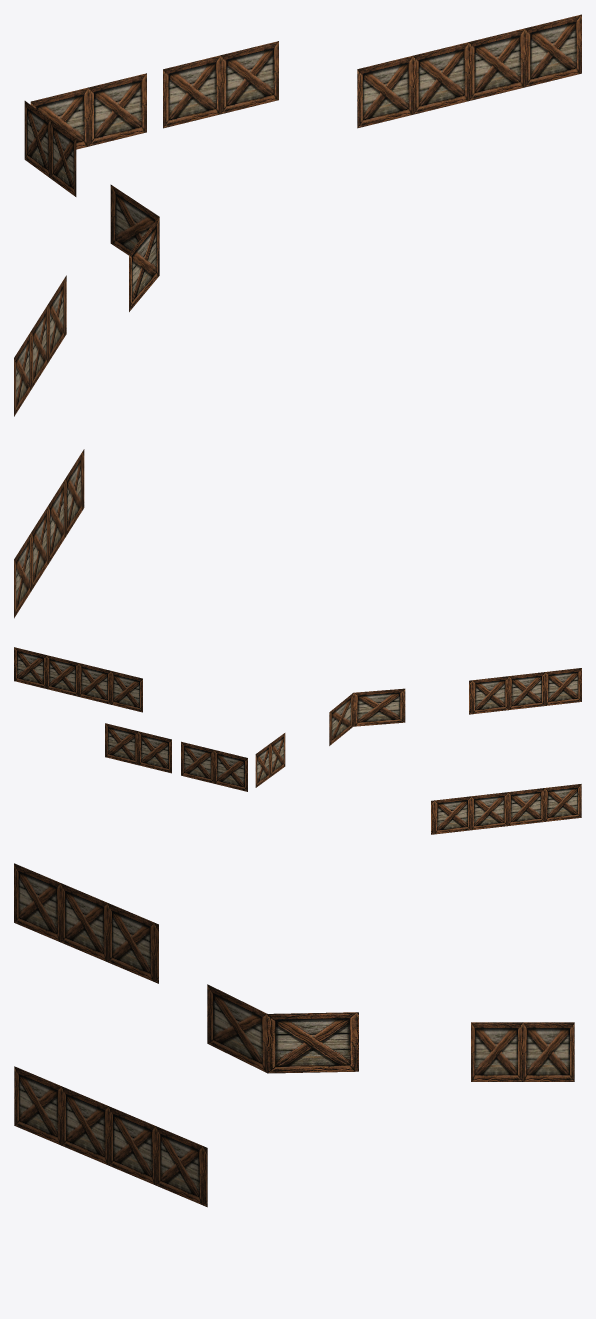
File: LAKETOWN_EXTERIOR_PS_LT_PANELS2674.fbx
3 renders of one model, top to bottom at view 1: azimuth 30°, elevation 25°; view 2: azimuth 150°, elevation 25°; view 3: azimuth 270°, elevation 25°, orthographic. The views are drawn at different scales.
Visible parts, largest first — view 1: LAKETOWN_EXTERIOR_PS_LT_PANELS2674; view 2: LAKETOWN_EXTERIOR_PS_LT_PANELS2674; view 3: LAKETOWN_EXTERIOR_PS_LT_PANELS2674.
Boxes of the visible parts, bbox=[...] form: LAKETOWN_EXTERIOR_PS_LT_PANELS2674: bbox=[14, 14, 581, 618]; LAKETOWN_EXTERIOR_PS_LT_PANELS2674: bbox=[14, 647, 581, 834]; LAKETOWN_EXTERIOR_PS_LT_PANELS2674: bbox=[14, 863, 574, 1207].
Size of the model in its own units: 140830 by 45109 by 88486.
Materials: 1 (1 with a texture image).
